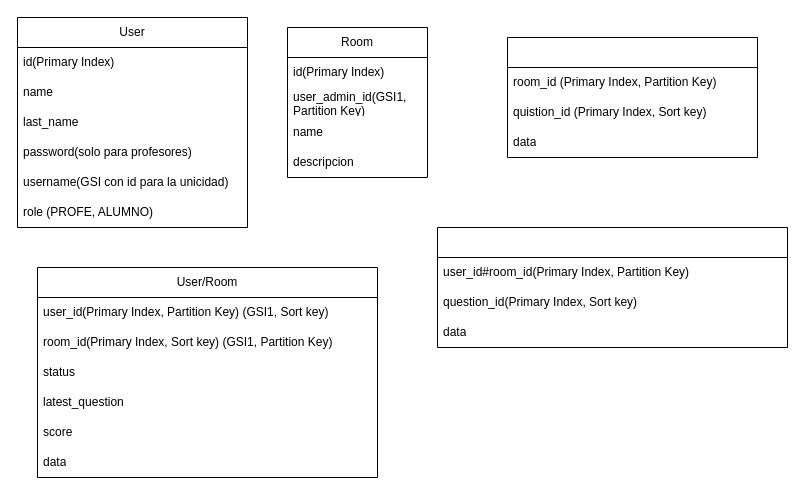
The diagram is 805 pixels wide and 495 high, and some of its shapes have lost their labels. Here are the shapes that lost their labels. From the top down, the box of each, then its label:
(506, 36, 758, 158): Room/Question
(436, 226, 788, 348): User/Response
